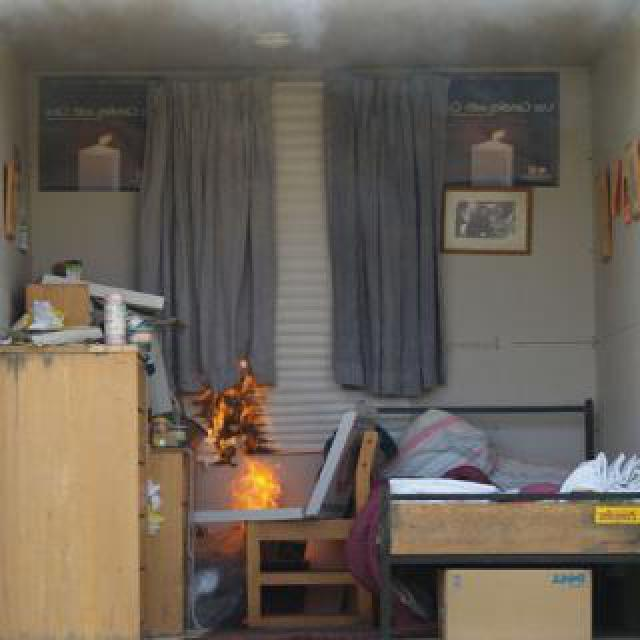Fire: (226, 450, 298, 520)
